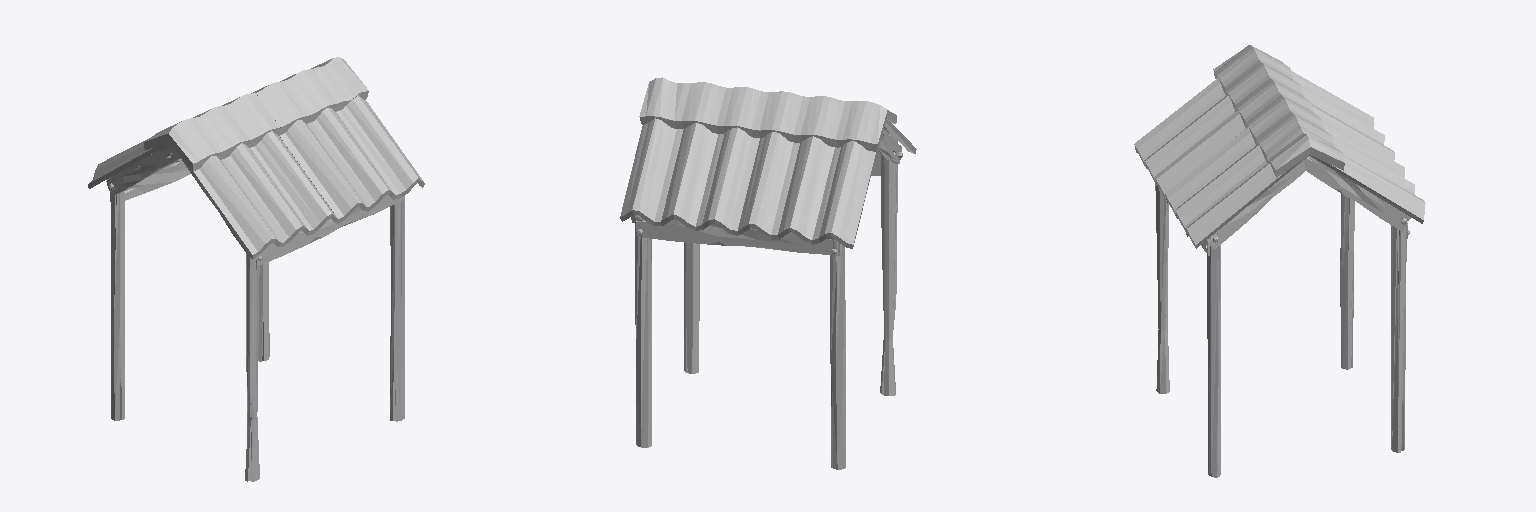
The model's file is BeeStand.obj.
The picture shows the model from 3 angles: view 1: azimuth 30°, elevation 25°; view 2: azimuth 150°, elevation 25°; view 3: azimuth 270°, elevation 25°; orthographic projection.
Size of the model in its own units: 4.04 by 5.06 by 4.02.